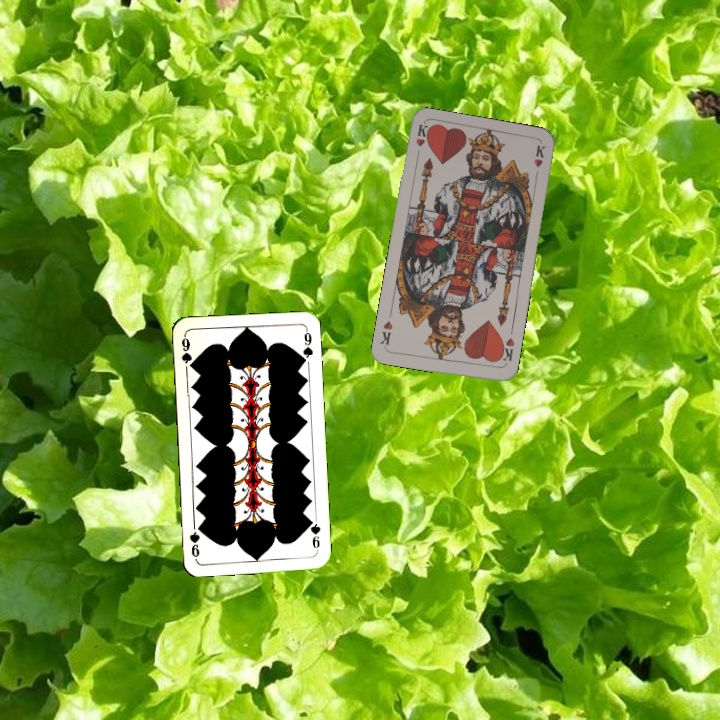G9: (178, 332, 197, 372), (305, 515, 323, 554)
HK: (412, 121, 432, 162), (495, 334, 517, 368)
